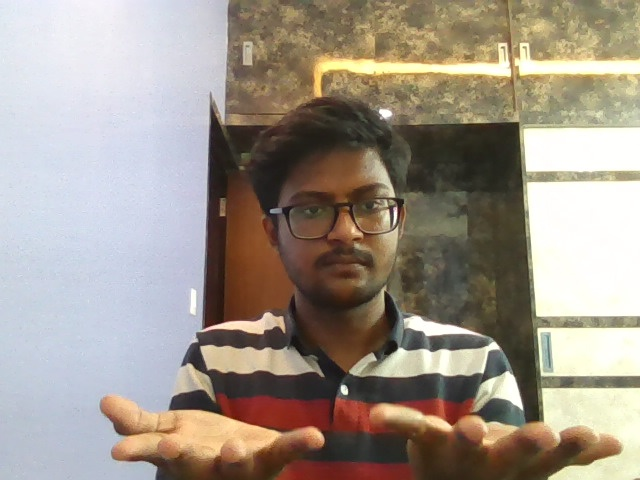what: (82, 389, 640, 480)
